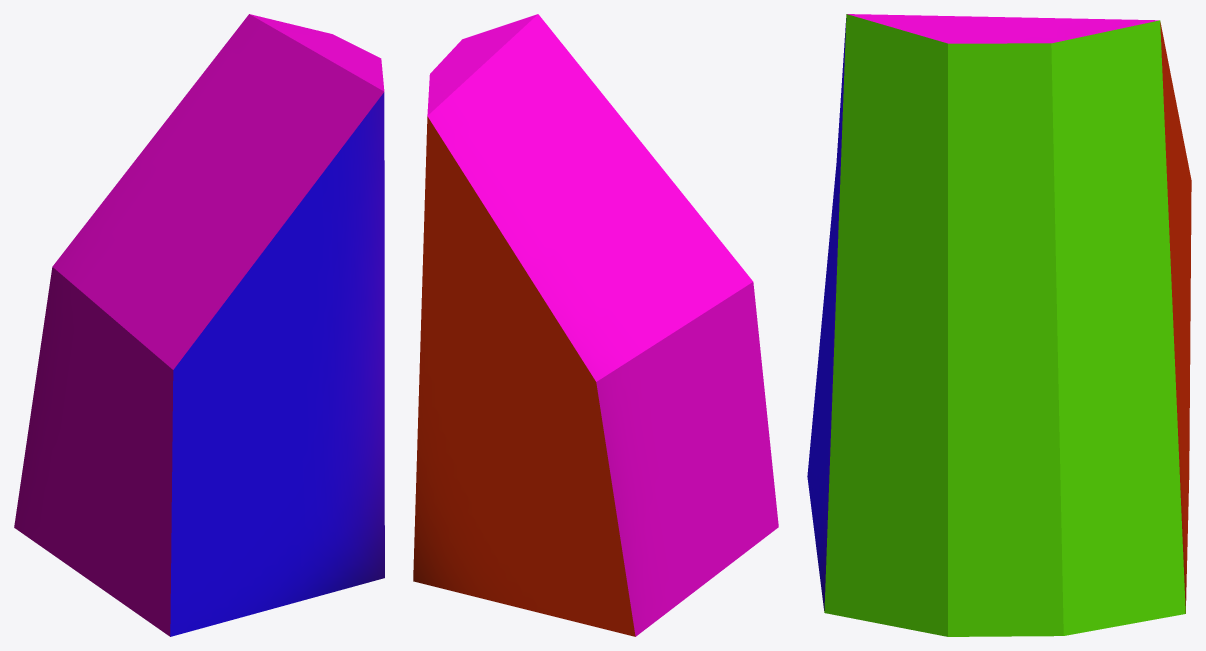
Rendered from Statue3-3.fbx.
The picture shows the model from 3 angles, left to right: view 1: azimuth 30°, elevation 25°; view 2: azimuth 150°, elevation 25°; view 3: azimuth 270°, elevation 25°; orthographic projection. The views are drawn at different scales.
Visible parts, largest first — view 1: Cube.009; view 2: Cube.009; view 3: Cube.009.
Part boxes in pixels (x1,y1,x2,y2): Cube.009: [14, 14, 384, 636]; Cube.009: [413, 14, 778, 636]; Cube.009: [807, 14, 1191, 636].
Size of the model in its own units: 79.53 by 134 by 77.01.
